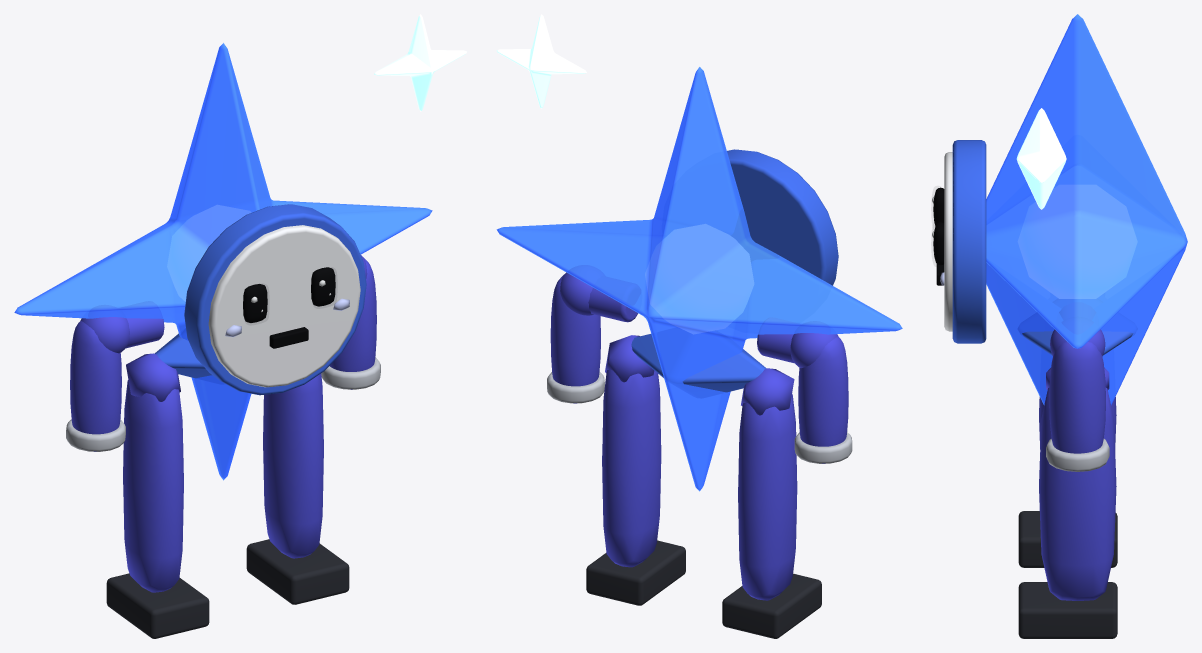
File: gemini.glb
3 views of the same model, side by side, from view 1: azimuth 30°, elevation 25°; view 2: azimuth 150°, elevation 25°; view 3: azimuth 270°, elevation 25° (orthographic). The views are drawn at different scales.
Visible parts, largest first — view 1: Body, Leg_L, Leg_R, Arm_L, Arm_R, Accessory; view 2: Body, Leg_L, Leg_R, Arm_L, Arm_R, Accessory; view 3: Body, Leg_R, Arm_R, Accessory, Leg_L.
Boxes of the visible parts, x1,y1,x2,y2 form: Body: [14, 43, 432, 480]; Leg_L: [106, 353, 209, 638]; Leg_R: [246, 373, 349, 604]; Arm_L: [66, 301, 164, 451]; Arm_R: [321, 255, 380, 389]; Accessory: [374, 14, 467, 111]; Body: [496, 67, 902, 491]; Leg_L: [722, 368, 821, 638]; Leg_R: [586, 335, 685, 605]; Arm_L: [757, 318, 852, 463]; Arm_R: [547, 265, 640, 403]; Accessory: [496, 14, 586, 108]; Body: [932, 14, 1187, 405]; Leg_R: [1018, 367, 1117, 638]; Arm_R: [1046, 303, 1109, 472]; Accessory: [1016, 108, 1066, 209]; Leg_L: [1018, 397, 1117, 567].
Bounding box in the file's own units: 0.872 × 1.06 × 0.4274.
